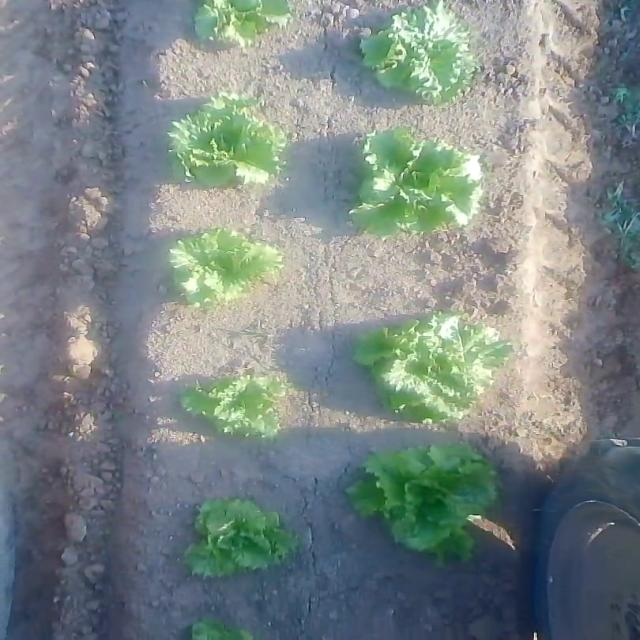Lettuce-Ready-to-Harvest: (344, 442, 499, 566), (354, 314, 512, 423), (347, 129, 486, 237), (359, 1, 477, 103), (165, 96, 287, 188), (188, 497, 300, 581), (165, 228, 283, 307), (183, 370, 292, 441)
